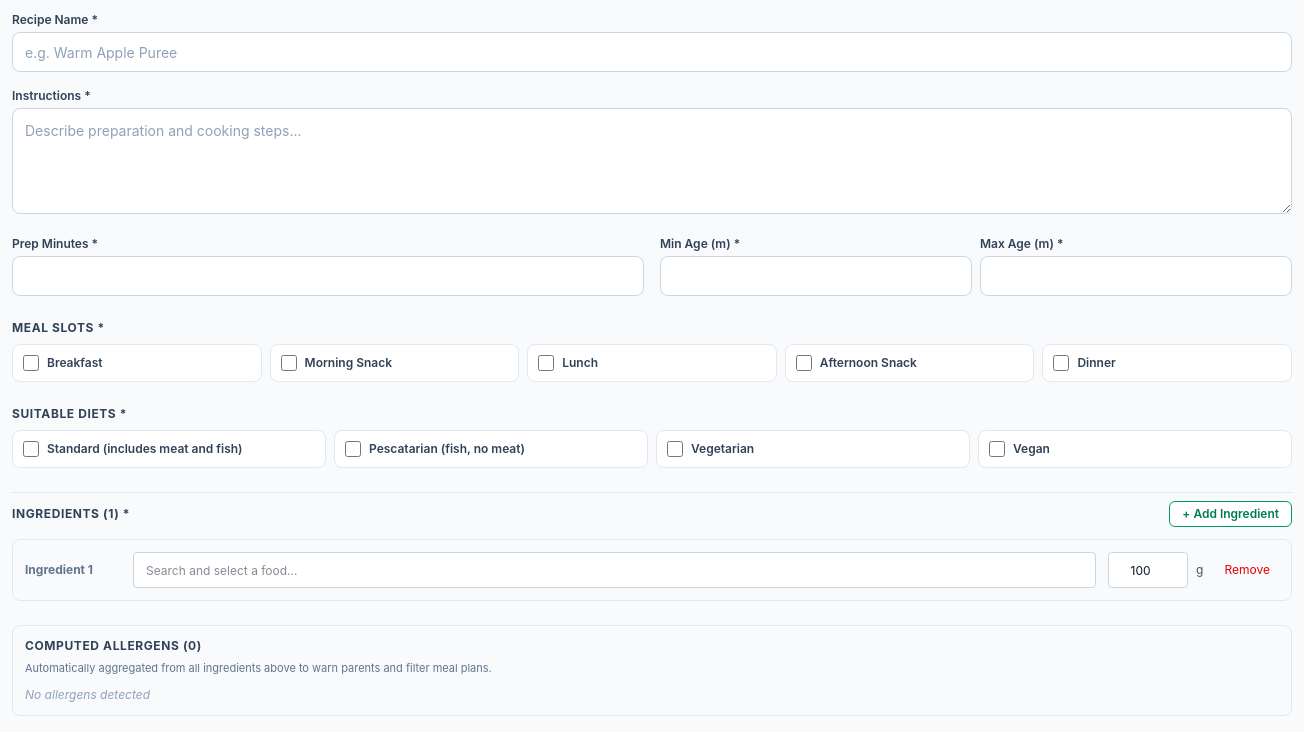
Test: RecipeForm component › allows adding and removing ingredient rows and validates at least one ingredient
Expected: the text "Ingredient 1" is shown, [25,562,93,577]
Note: Add second ingredient row
Click the button "+ Add Ingredient" at x=1231, y=514, box [1169,501,1292,527]
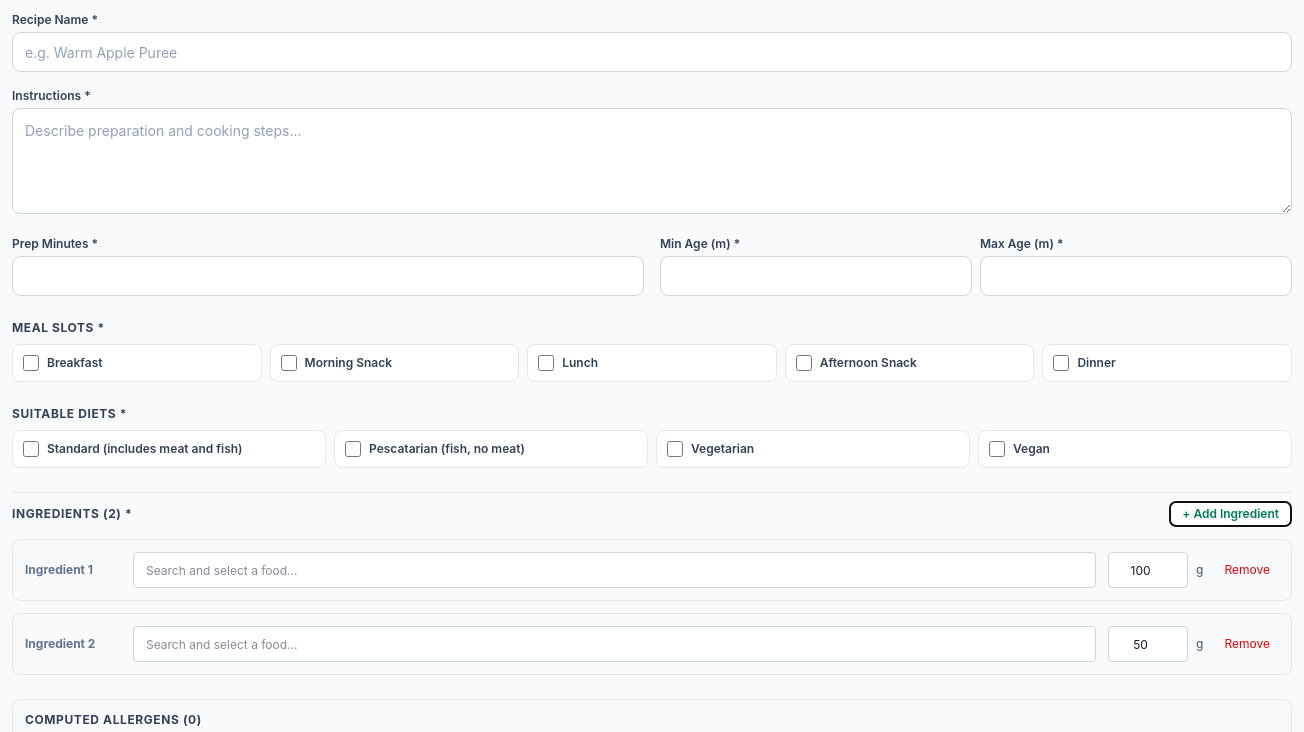
Expected: the text "Ingredient 2" is shown, [25,636,95,651]
Expected: the number of buttons "Remove" is 2
Click the 2nd button "Remove" at x=1247, y=644, box [1216,631,1279,657]
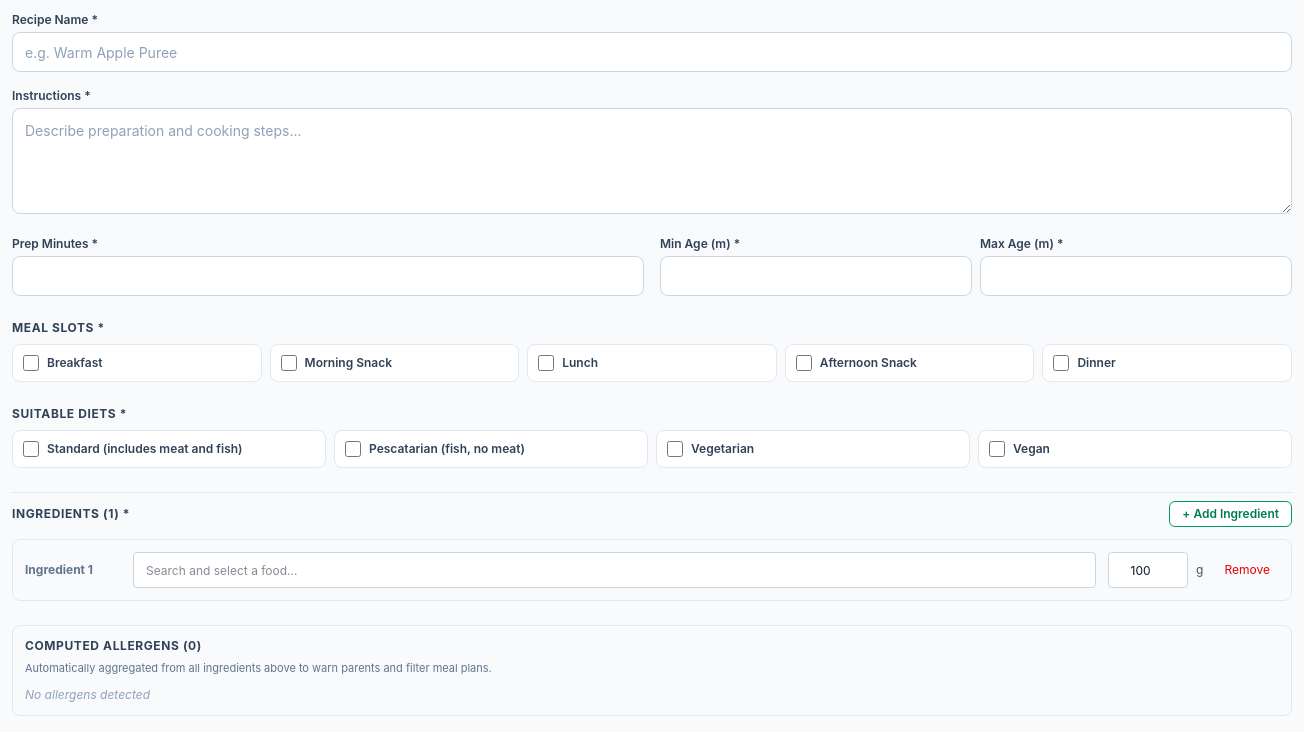
Expected: the text "Ingredient 2" is gone
